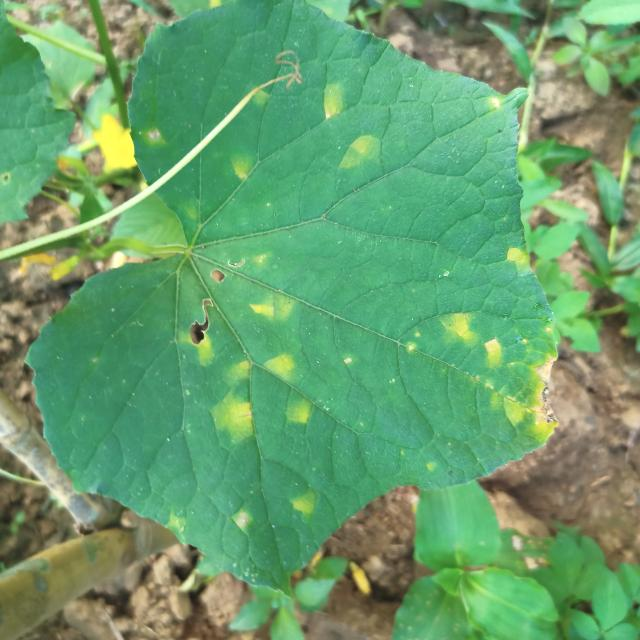disease_cucumber: (183, 250, 312, 456), (438, 314, 560, 458), (319, 76, 379, 184), (225, 139, 263, 188), (498, 239, 541, 281), (286, 484, 322, 528)
